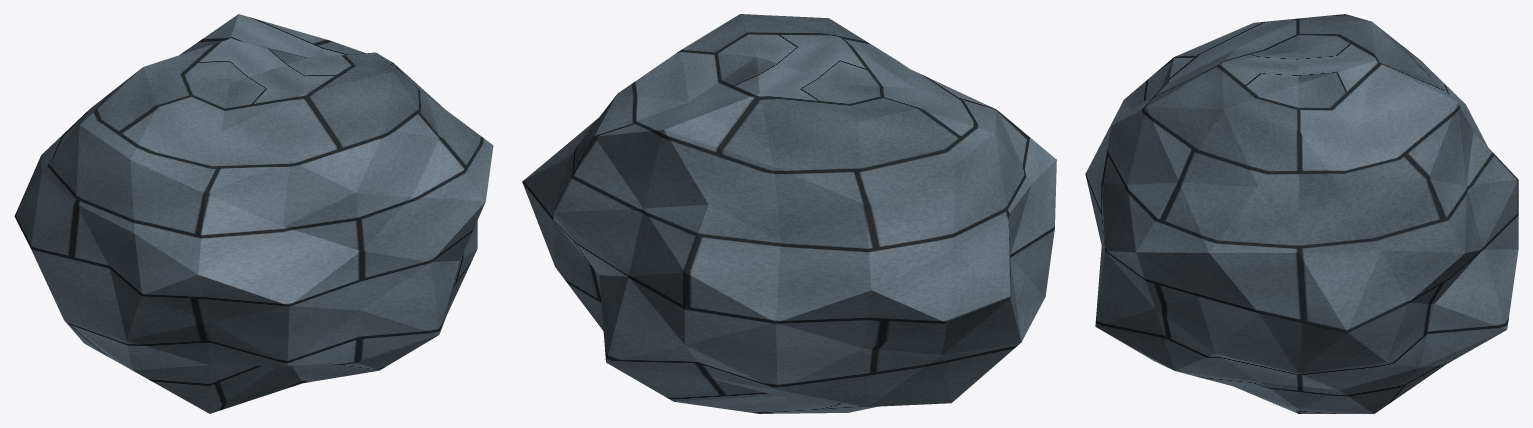
The model's file is moor-rock-1.glb.
3 views of the same model, side by side, from view 1: azimuth 30°, elevation 25°; view 2: azimuth 150°, elevation 25°; view 3: azimuth 270°, elevation 25° (orthographic). The views are drawn at different scales.
Parts seen in each view (by area): view 1: moor-rock-1; view 2: moor-rock-1; view 3: moor-rock-1.
Boxes of the visible parts, bbox=[...] form: moor-rock-1: bbox=[14, 14, 493, 413]; moor-rock-1: bbox=[522, 14, 1056, 413]; moor-rock-1: bbox=[1085, 14, 1518, 413].
Bounding box in the file's own units: 2.15 × 1.45 × 1.73.
1 material, 1 textured.
